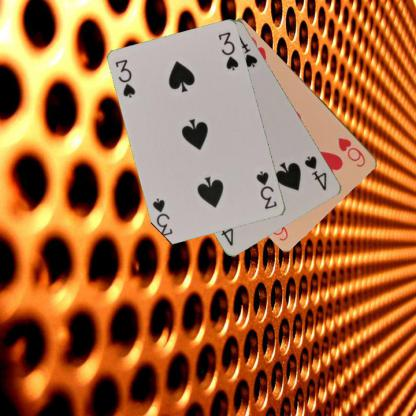3s: (113, 57, 137, 100), (254, 168, 278, 210)
4s: (302, 153, 329, 192)
6h: (336, 134, 368, 168)
